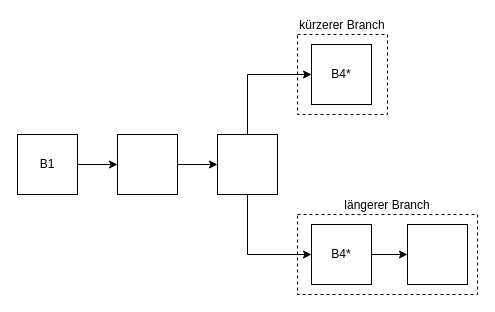
The diagram is 495 pixels wide and 312 high, and some of its shapes have lost their labels. Each missing label, with the centre of its shape:
"B2" belongs at point 147,164.
"B3" belongs at point 247,164.
"B5*" belongs at point 437,254.
